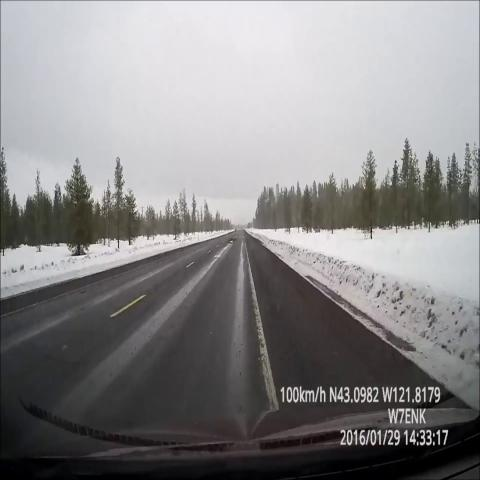pothole: (224, 233, 240, 252)
